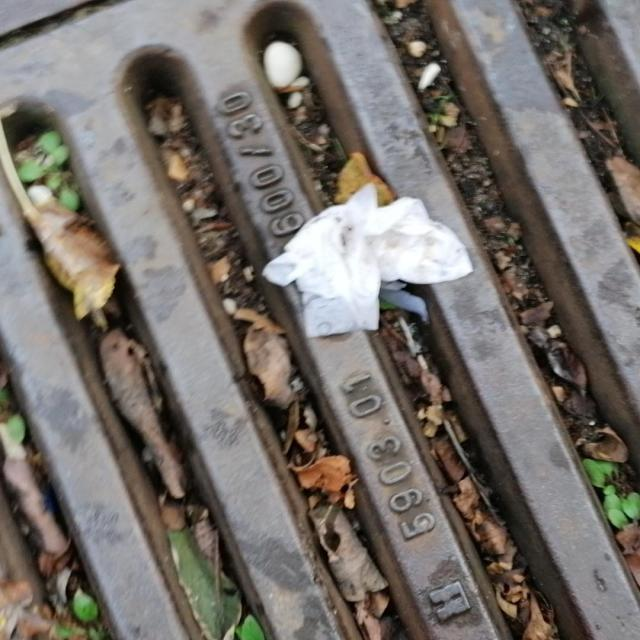Paper: (259, 178, 474, 340)
